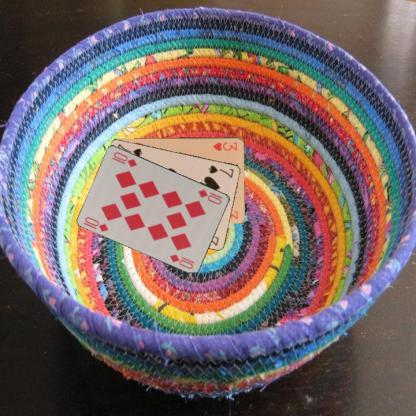10d: (196, 186, 223, 206), (82, 214, 110, 233)
3h: (210, 139, 239, 152)
7s: (206, 162, 235, 179)
